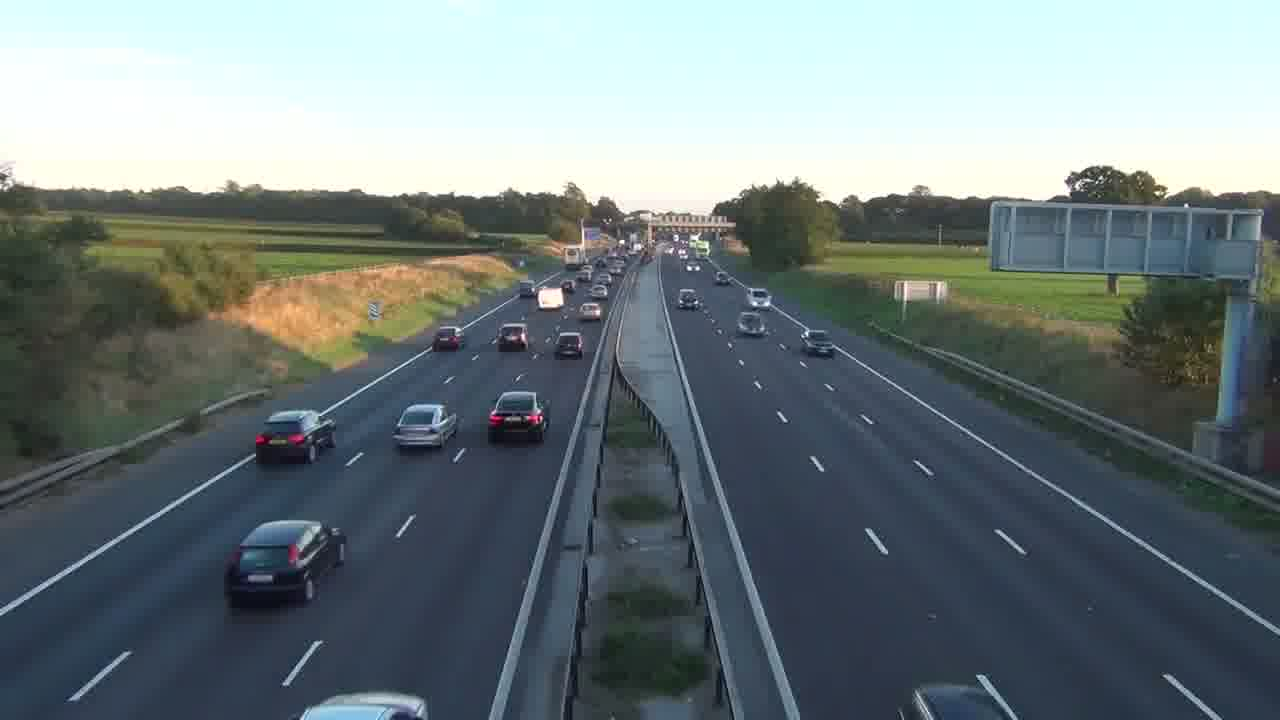car: (223, 519, 347, 606), (255, 409, 337, 463), (299, 690, 429, 720), (487, 390, 549, 444), (392, 401, 460, 450), (432, 325, 465, 352), (555, 330, 584, 359)
